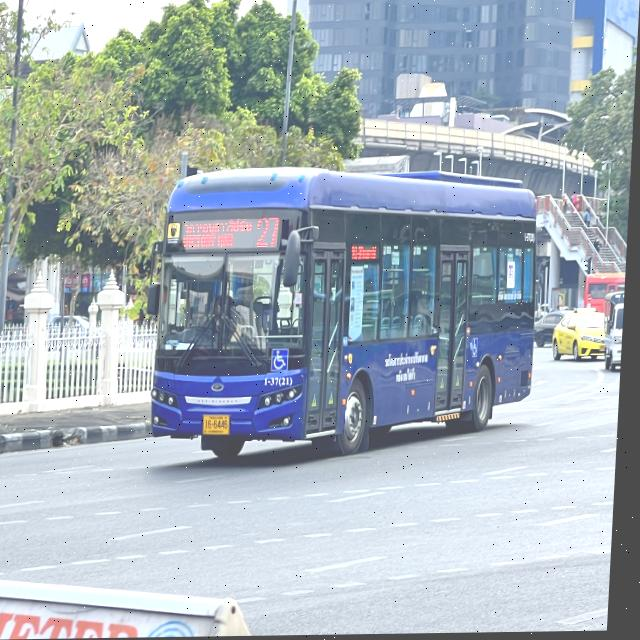Bus-Line-Number: (256, 213, 286, 254)
Destination-Sign-Normal: (182, 214, 255, 256)
TSB-Bus: (152, 166, 546, 465)
